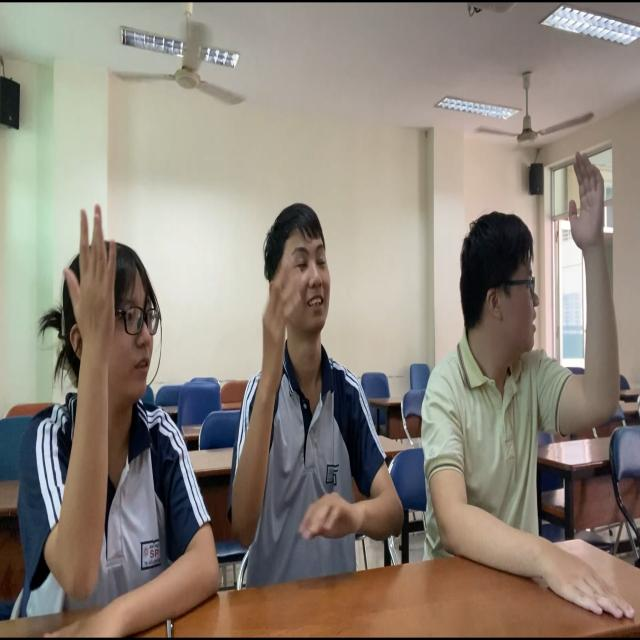raise_hand: (417, 87, 640, 640), (206, 170, 436, 640), (17, 171, 236, 640)
